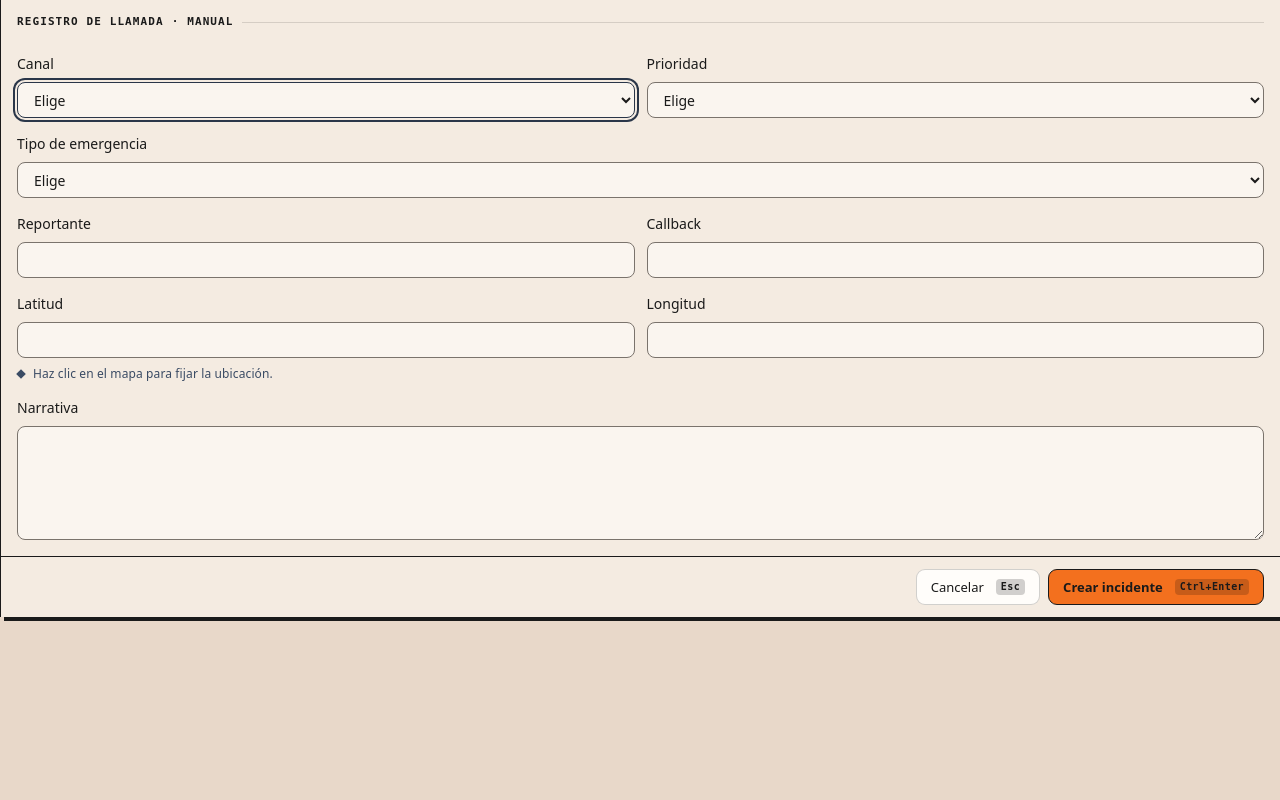
Scenario: FormularioLlamada · creación › incompleto: muestra los errores, enfoca el primero y no crea nada
The width and height of the screenshot is (1280, 800).
Click the button "Crear incidente Ctrl+Enter" at (1156,587), box [1048,569,1264,605]
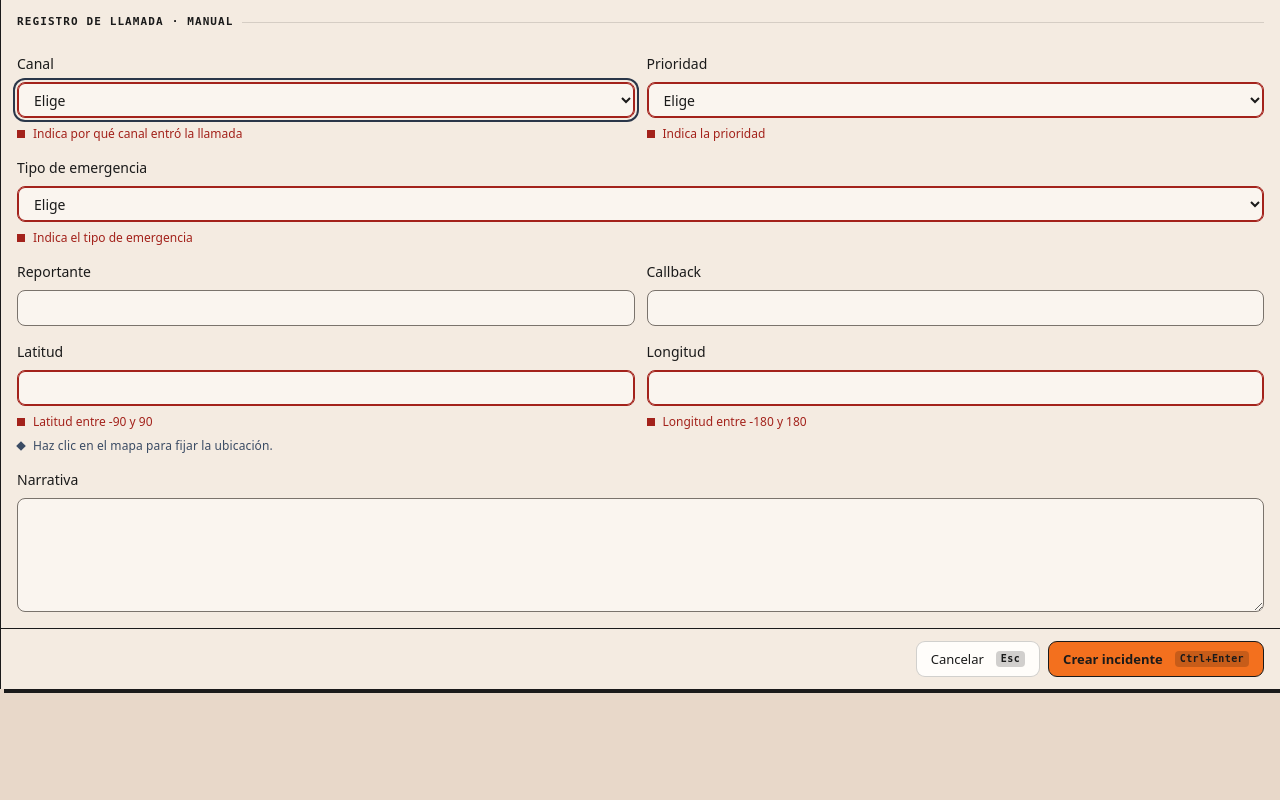
Result: the messages read "Indica por qué canal entró la llamada", "Indica la prioridad", "Indica el tipo de emergencia", "Latitud entre -90 y 90", "Longitud entre -180 y 180", in this order at [17,125,242,142]; [646,125,765,142]; [17,229,193,246]; [17,413,152,430]; [646,413,807,430]
